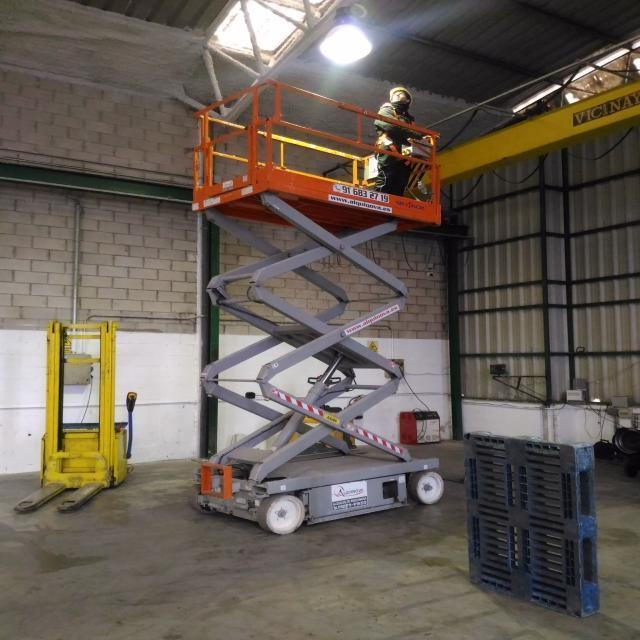Arnes_seguridad: (378, 103, 411, 161)
